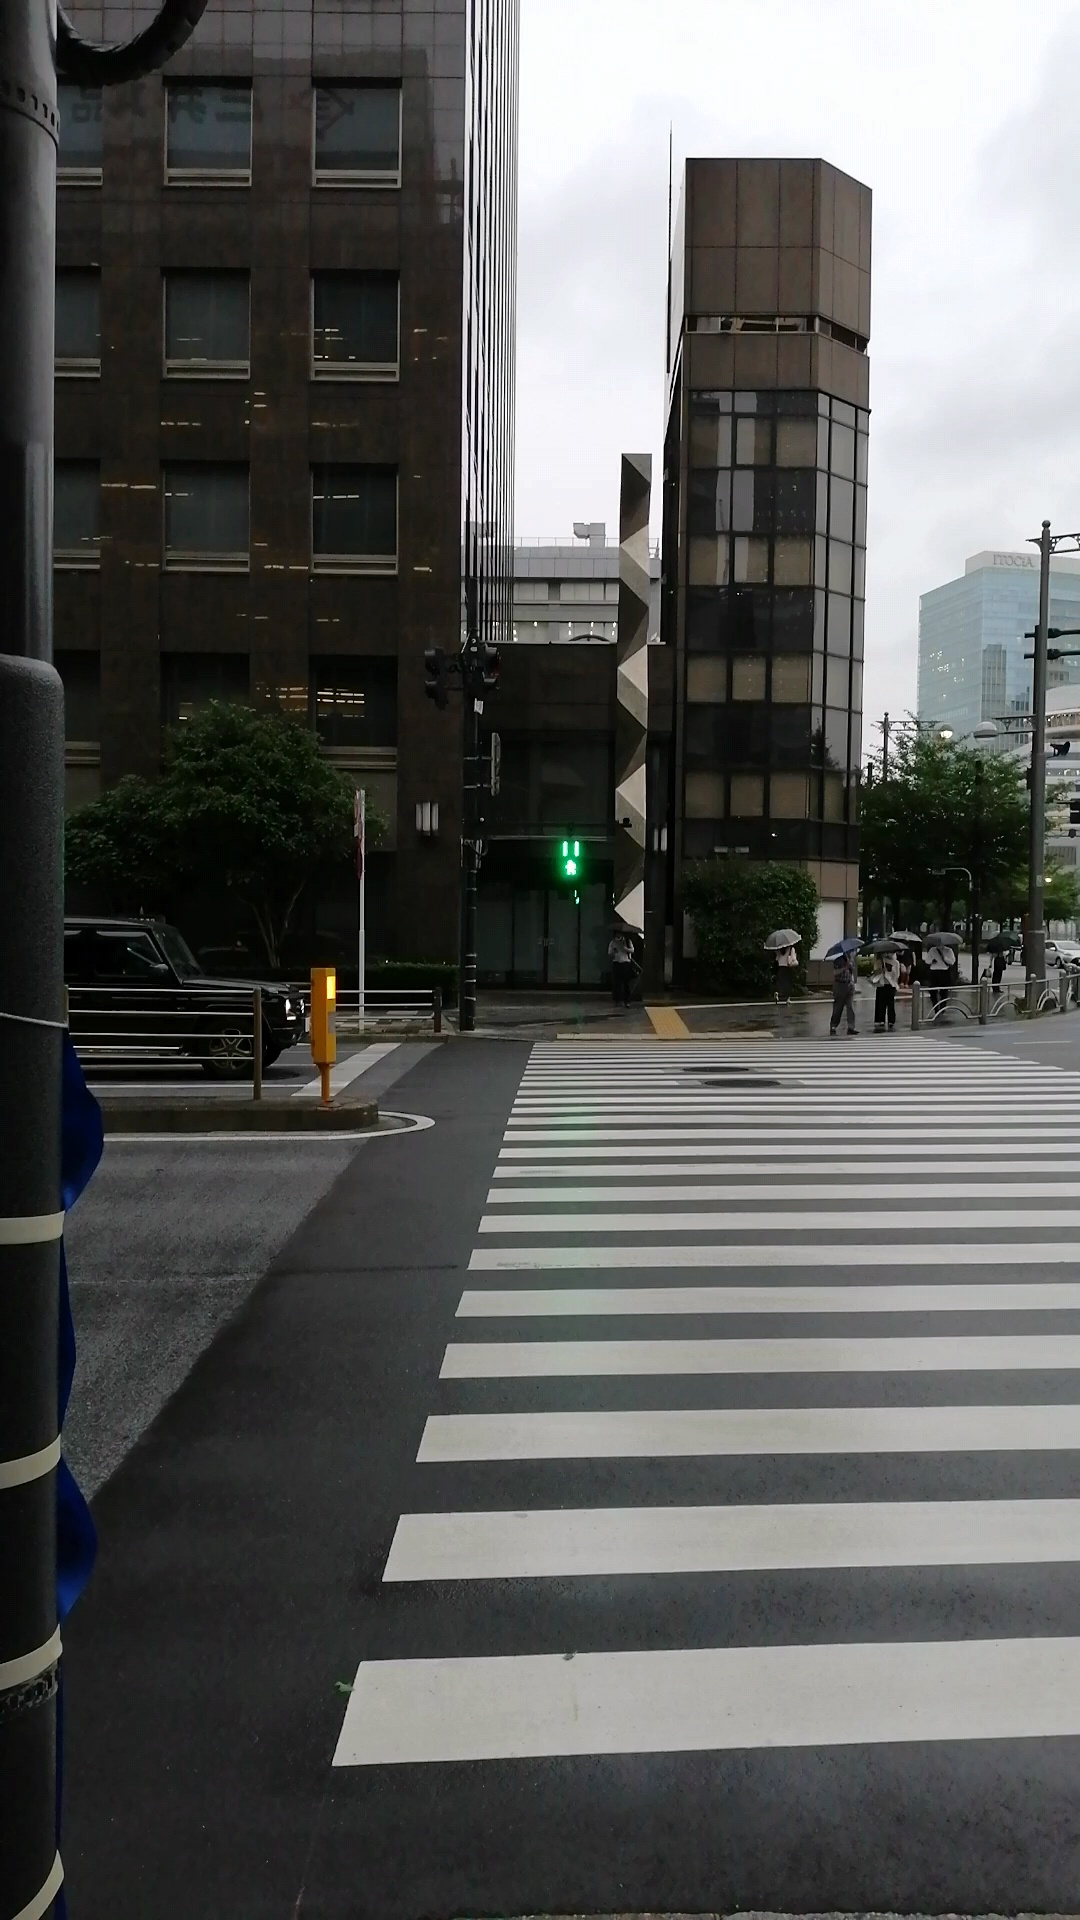green: (556, 835, 584, 880)
